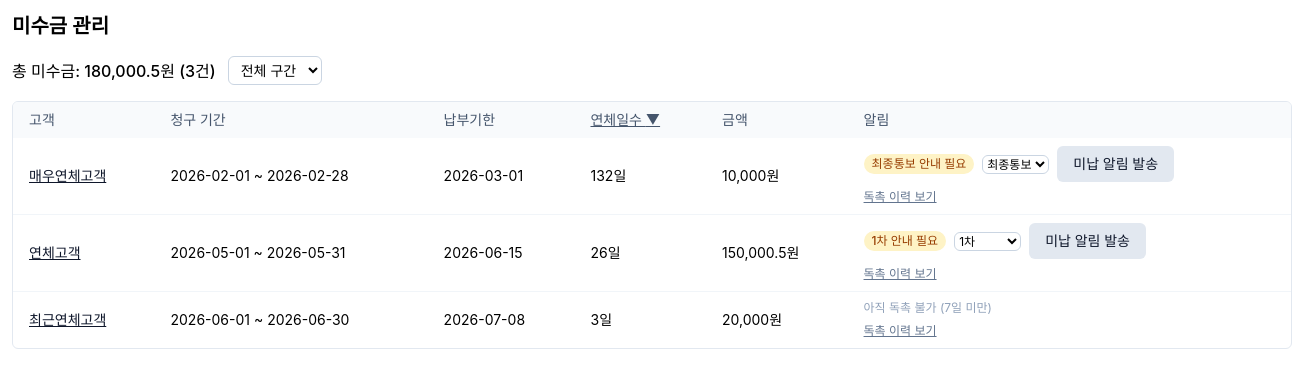
OverdueInvoicesPage › shows an error message when sending the reminder fails
Check: the link "연체고객" is shown, box x1=29 y1=244 x2=80 y2=261
Click the button "미납 알림 발송" in the row of "1차": click(1088, 241) x1=1029 y1=223 x2=1146 y2=259
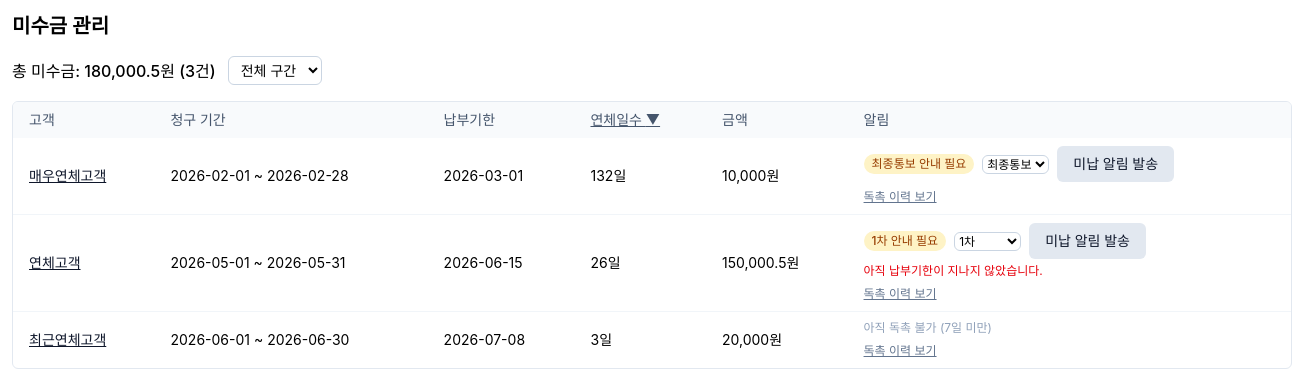
Check: the text "아직 납부기한이 지나지 않았습니다." is shown, box x1=864 y1=263 x2=1043 y2=278
